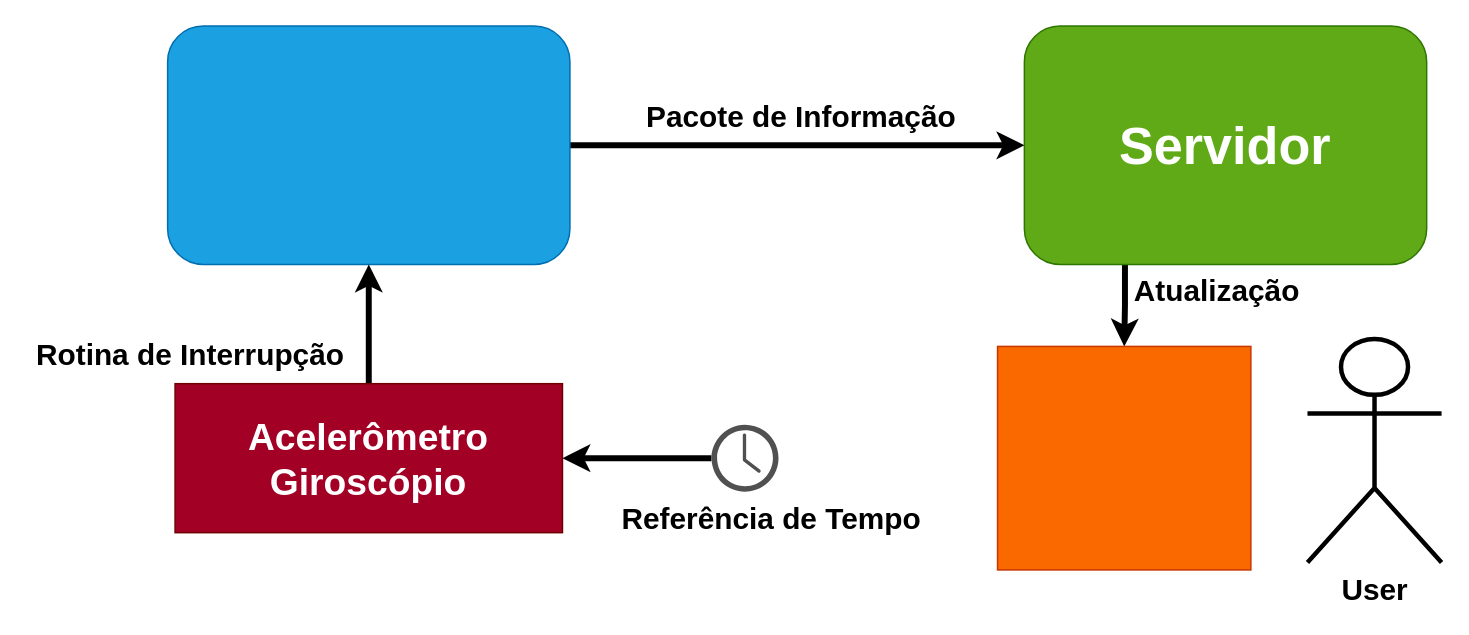
Image size: 1469x635. Some labels were removed from this diagram. Each missing label, with the box of its shape:
BBLUE: (166, 25, 570, 264)
UI: (996, 345, 1251, 570)
